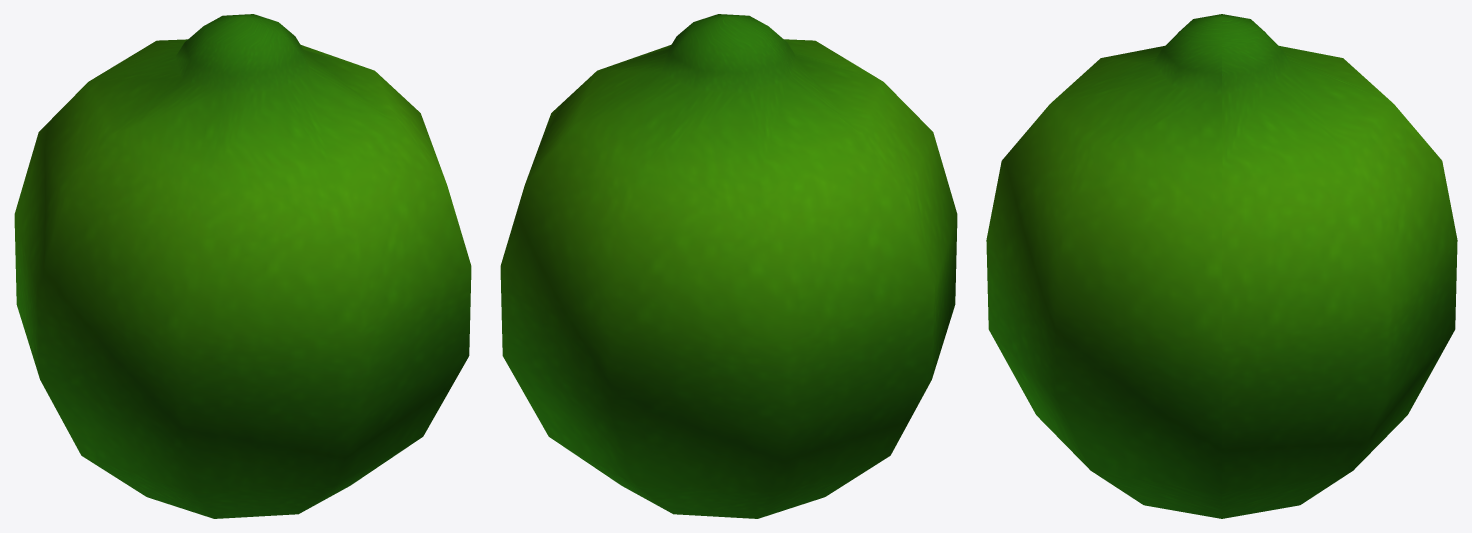
The model's file is Lime_Whole.fbx.
3 renders of one model, left to right at view 1: azimuth 30°, elevation 25°; view 2: azimuth 150°, elevation 25°; view 3: azimuth 270°, elevation 25°, orthographic.
Visible parts, largest first — view 1: Lime_Whole; view 2: Lime_Whole; view 3: Lime_Whole.
Part boxes in pixels (x1=…): Lime_Whole: x1=14, y1=14, x2=471, y2=518; Lime_Whole: x1=500, y1=14, x2=957, y2=518; Lime_Whole: x1=986, y1=14, x2=1457, y2=518.
Bounding box in the file's own units: 22.93 × 25.48 × 22.93.
